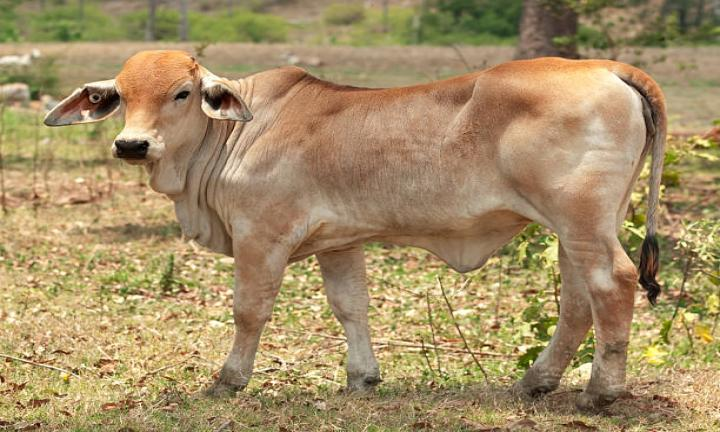Brahman: (44, 51, 666, 409)
